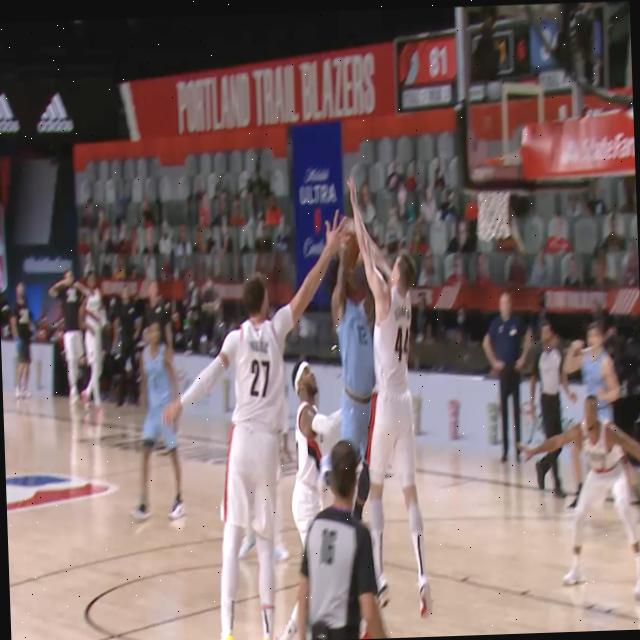foul: (325, 166, 450, 610)
no foul: (168, 186, 301, 640), (297, 440, 397, 640)
